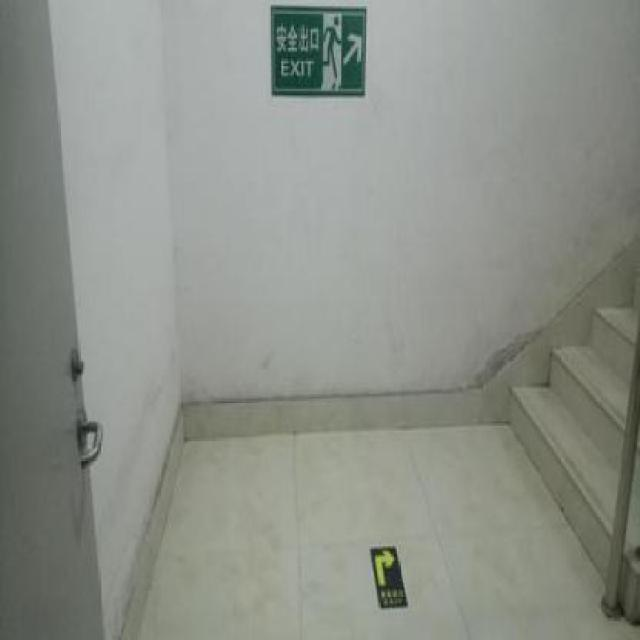exit_sign: (271, 3, 367, 96)
